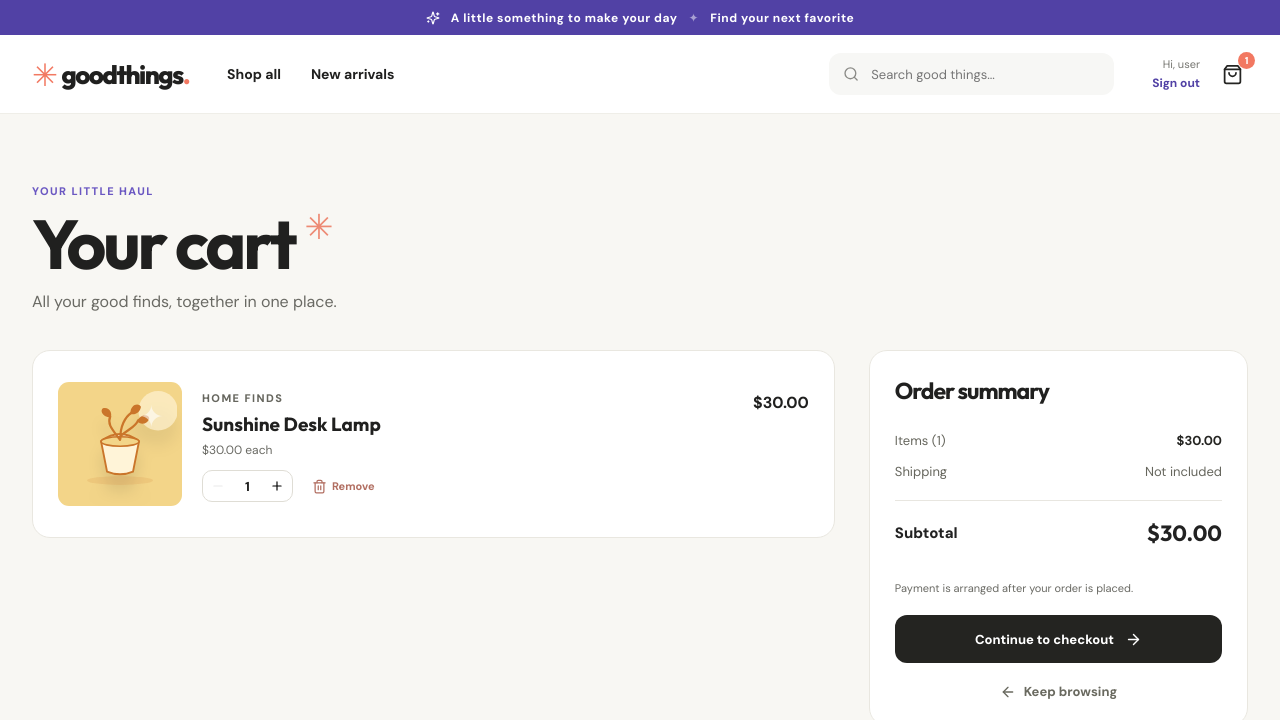
Test: storefront flows › updates the signed-in cart through the quantity endpoint
Click the button named "Increase Sunshine Desk Lamp quantity" at (277, 486), box [262,471,292,501]
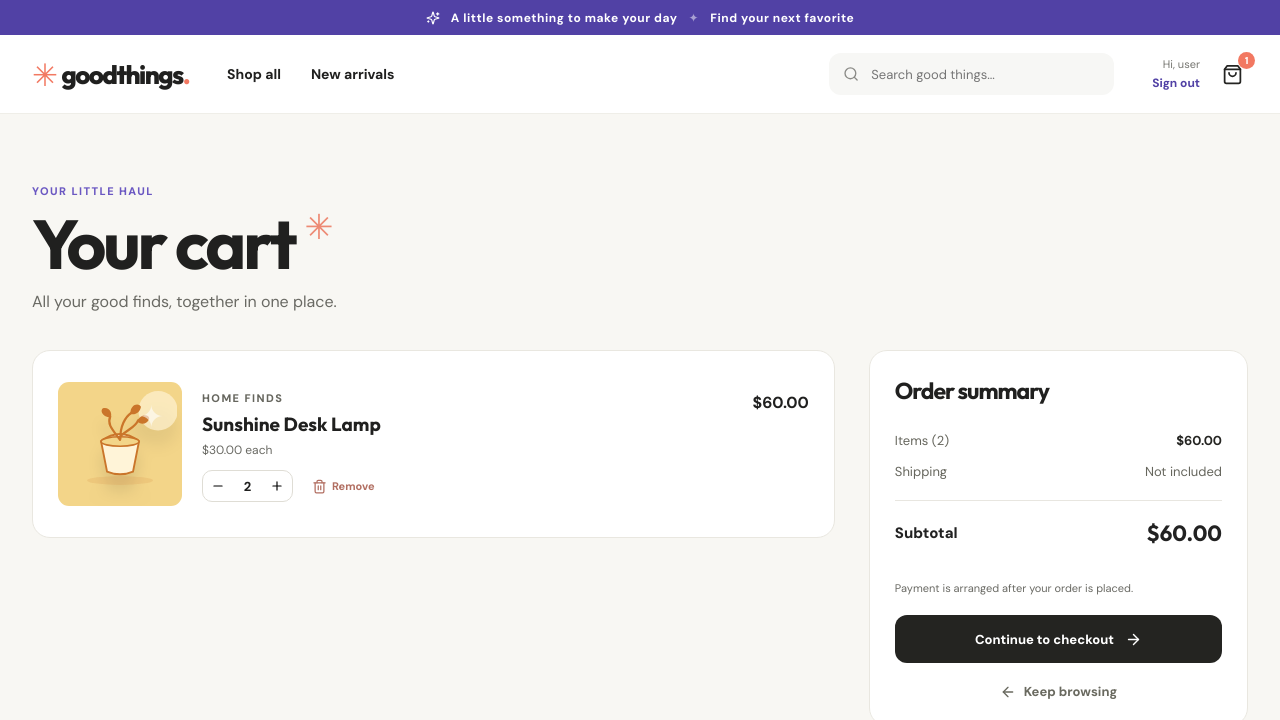
Expected: the text "$60.00" in the row of "Home Finds" is shown, [752,392,809,413]
